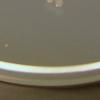yellow: (54, 0, 63, 7), (45, 0, 53, 4)
